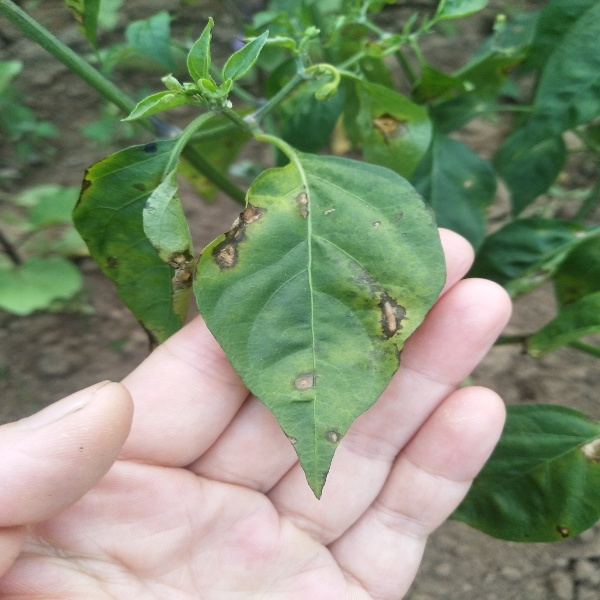Anthrax: (287, 287, 423, 451), (77, 137, 159, 280), (217, 184, 312, 277), (147, 230, 205, 303), (369, 102, 413, 151)
